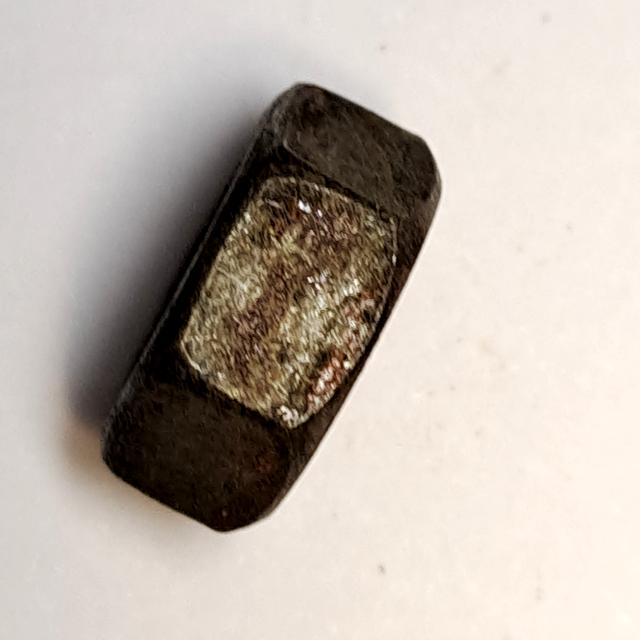Side_Rust: (87, 72, 454, 551)
